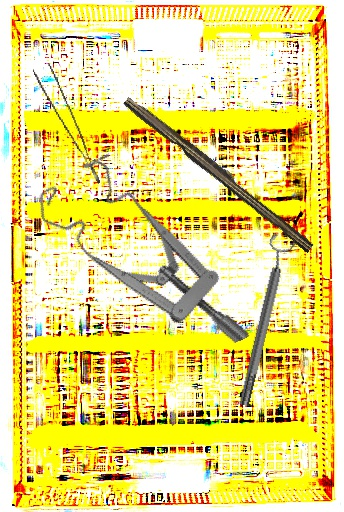Fixation Ring: (228, 233, 299, 409)
Scalpel Handle: (120, 92, 319, 254)
Speculum: (29, 131, 250, 396)
Tissue Forceps: (32, 60, 101, 192)
